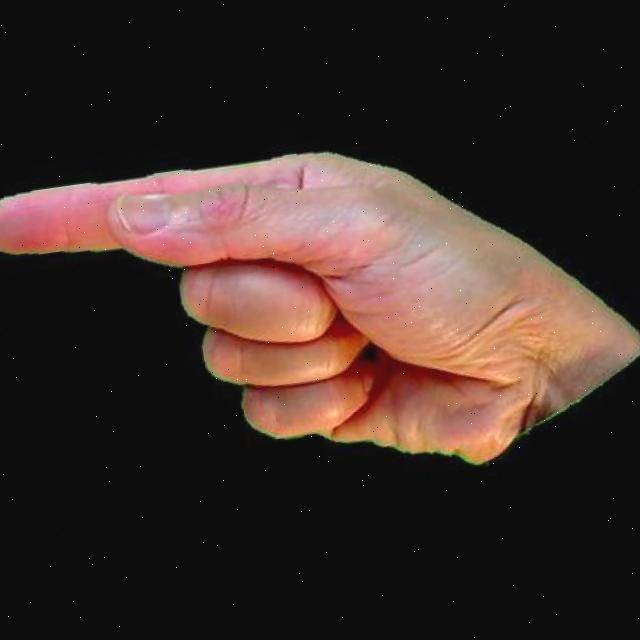g: (0, 83, 640, 539)
